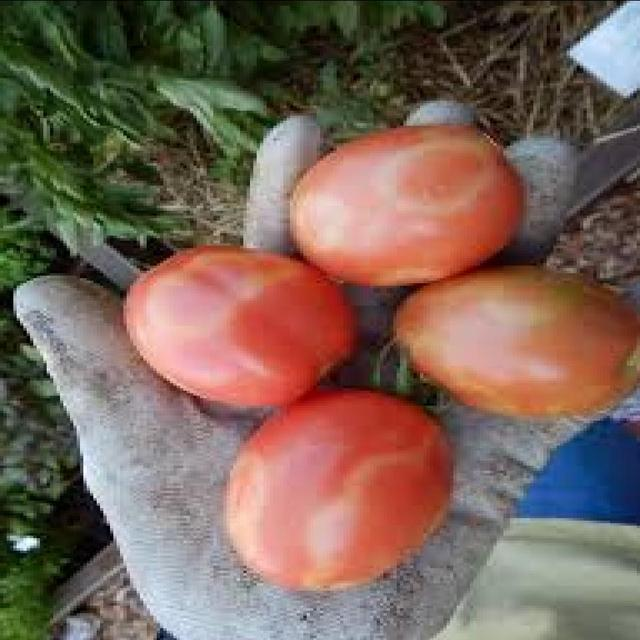Spotted wilt Virus Fruit: (82, 155, 427, 297)
